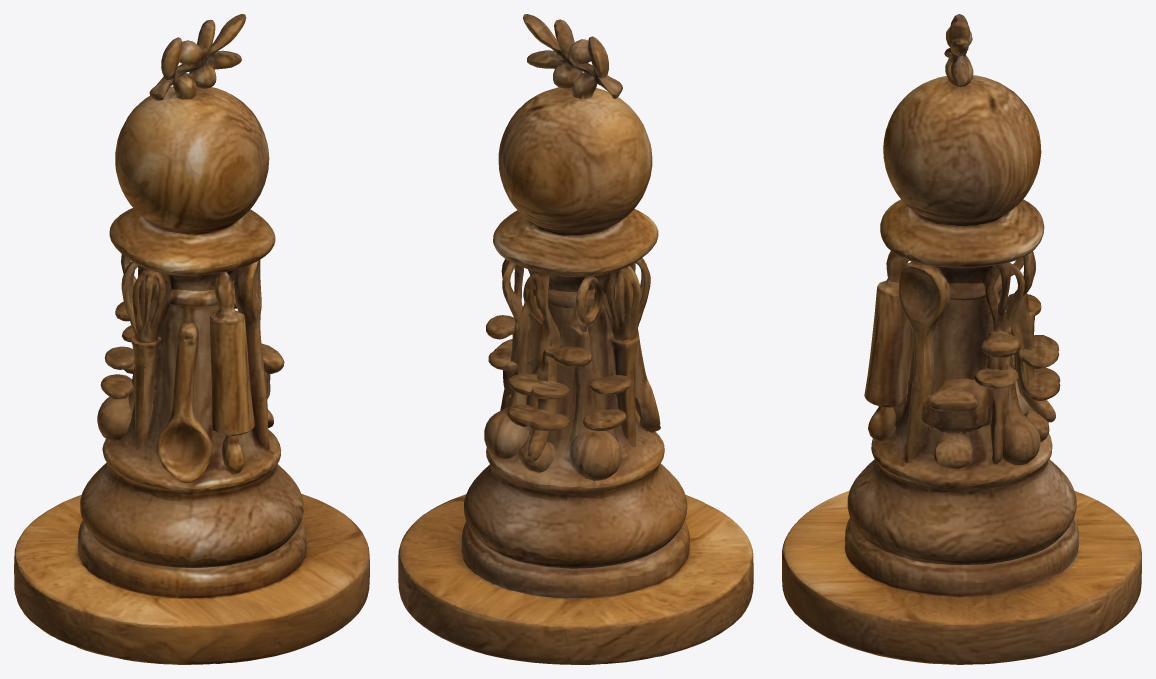
3 renders of one model, left to right at view 1: azimuth 30°, elevation 25°; view 2: azimuth 150°, elevation 25°; view 3: azimuth 270°, elevation 25°, orthographic.
Parts seen in each view (by area): view 1: world; view 2: world; view 3: world.
Part boxes in pixels (bbox=[...]): world: bbox=[14, 14, 369, 664]; world: bbox=[398, 14, 753, 664]; world: bbox=[782, 14, 1141, 664].
Size of the model in its own units: 0.2724 by 0.48 by 0.2704.
1 material, 1 textured.
